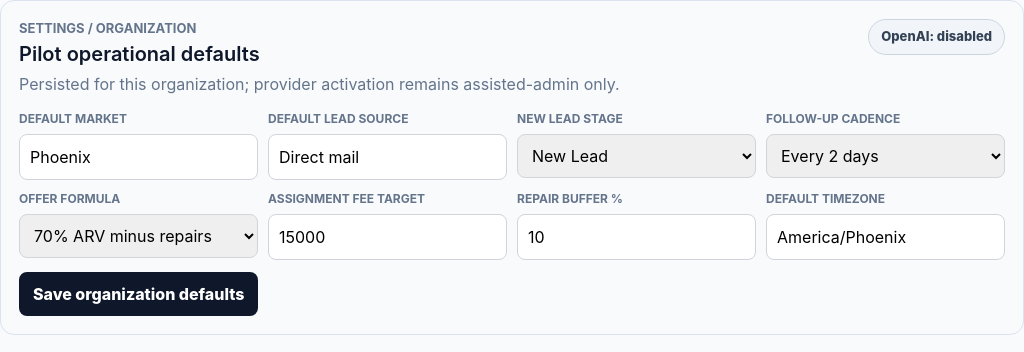
Test case: OrganizationSettingsPanel › reloads persisted organization settings and saves operational defaults
The width and height of the screenshot is (1024, 352).
Expected: the text "OpenAI: disabled" is shown, top-left (868, 19), bottom-right (1005, 54)
Replace the text in the field labelled "Default Market" with "Tampa" at (138,156), box top-left (19, 134), bottom-right (258, 180)
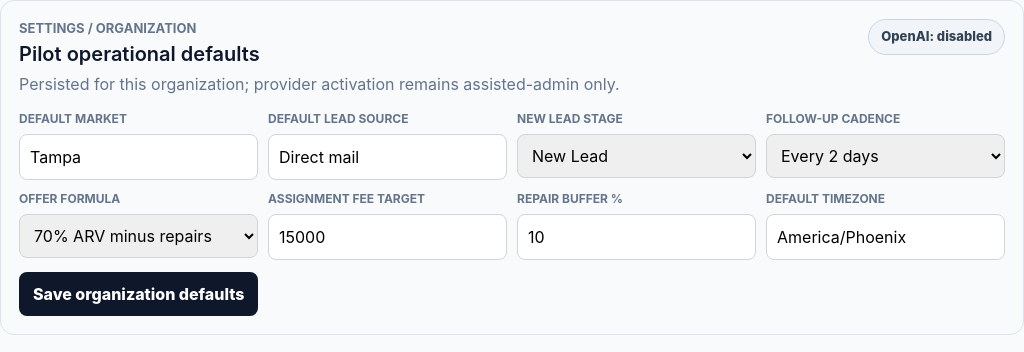
Click the button "Save organization defaults" at (139,294), box top-left (19, 272), bottom-right (258, 316)
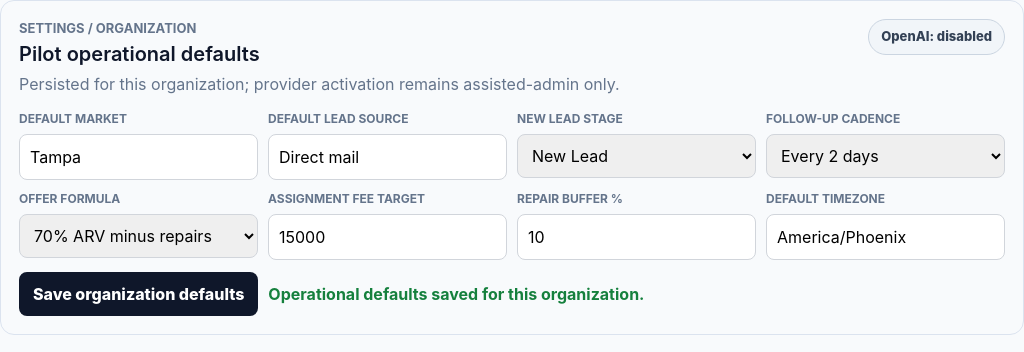
Expected: the text "Operational defaults saved for this organization." is shown, top-left (268, 282), bottom-right (644, 306)
